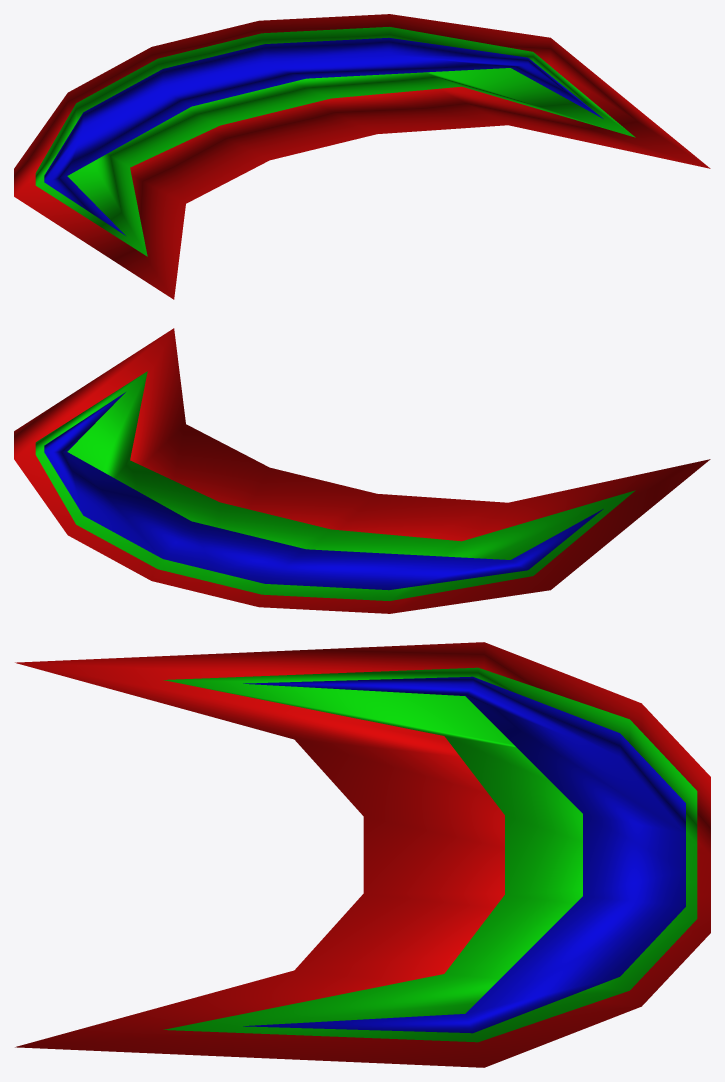
The model's file is vfx_vcol_export1.gltf.
The picture shows the model from 3 angles, top to bottom: view 1: azimuth 30°, elevation 25°; view 2: azimuth 150°, elevation 25°; view 3: azimuth 270°, elevation 25°; orthographic projection. The views are drawn at different scales.
Visible parts, largest first — view 1: flat energy bar; view 2: flat energy bar; view 3: flat energy bar.
Boxes of the visible parts, left/top/right/bottom form: flat energy bar: left=14, top=14, right=710, bottom=299; flat energy bar: left=14, top=328, right=710, bottom=613; flat energy bar: left=15, top=642, right=710, bottom=1067.
Size of the model in its own units: 2.19 by 0.2101 by 1.68.
